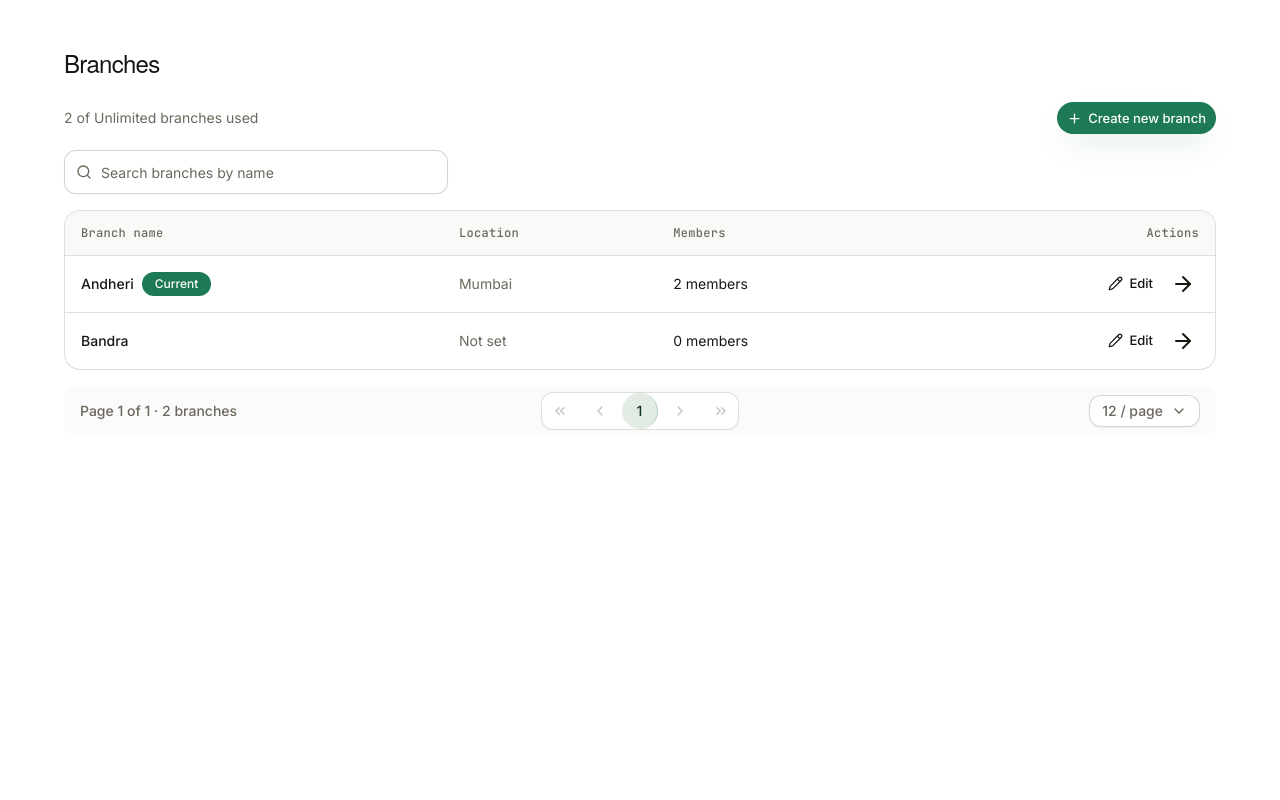
Test: DesignerBranches › creates a branch from the top-right dialog
Click the button "Create new branch" at (1137, 118), box [1057,102,1216,134]
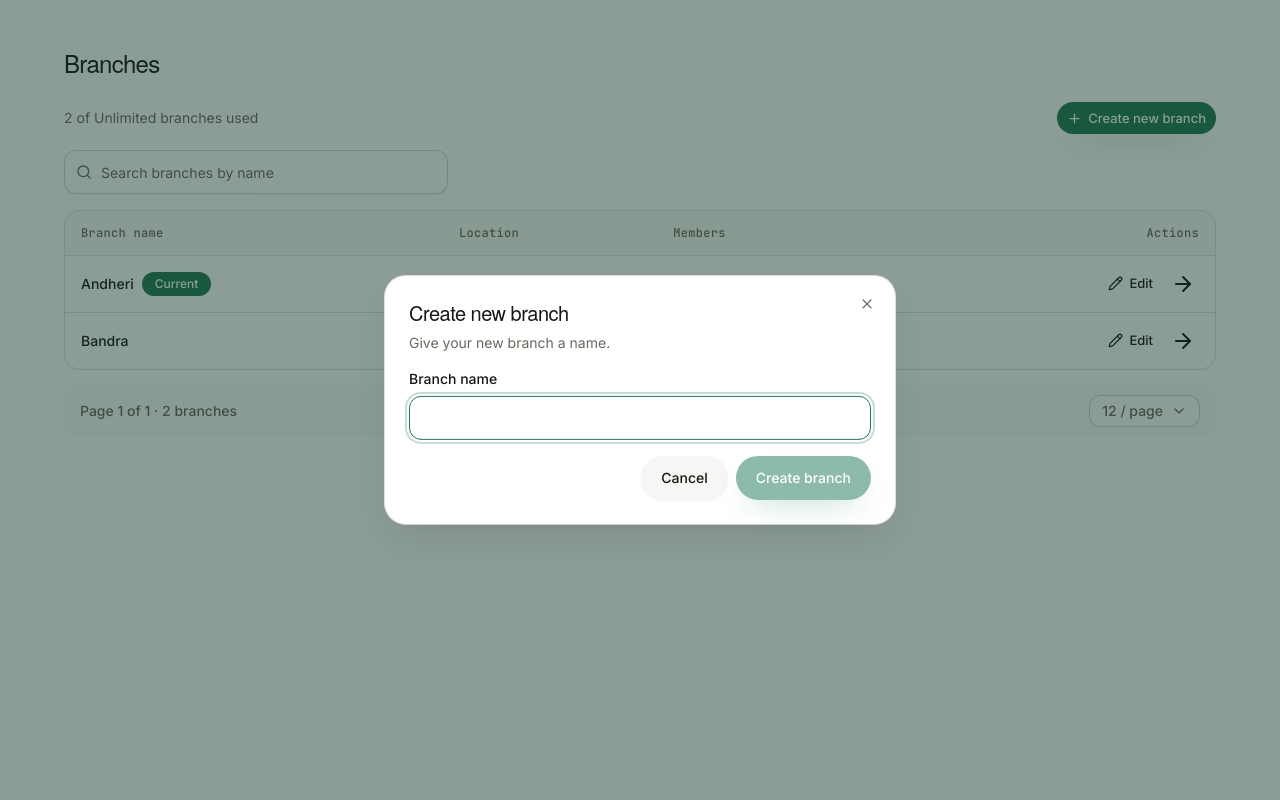
Type "Juhu" into the field labelled "Branch name" at (640, 418), box [409,396,871,440]
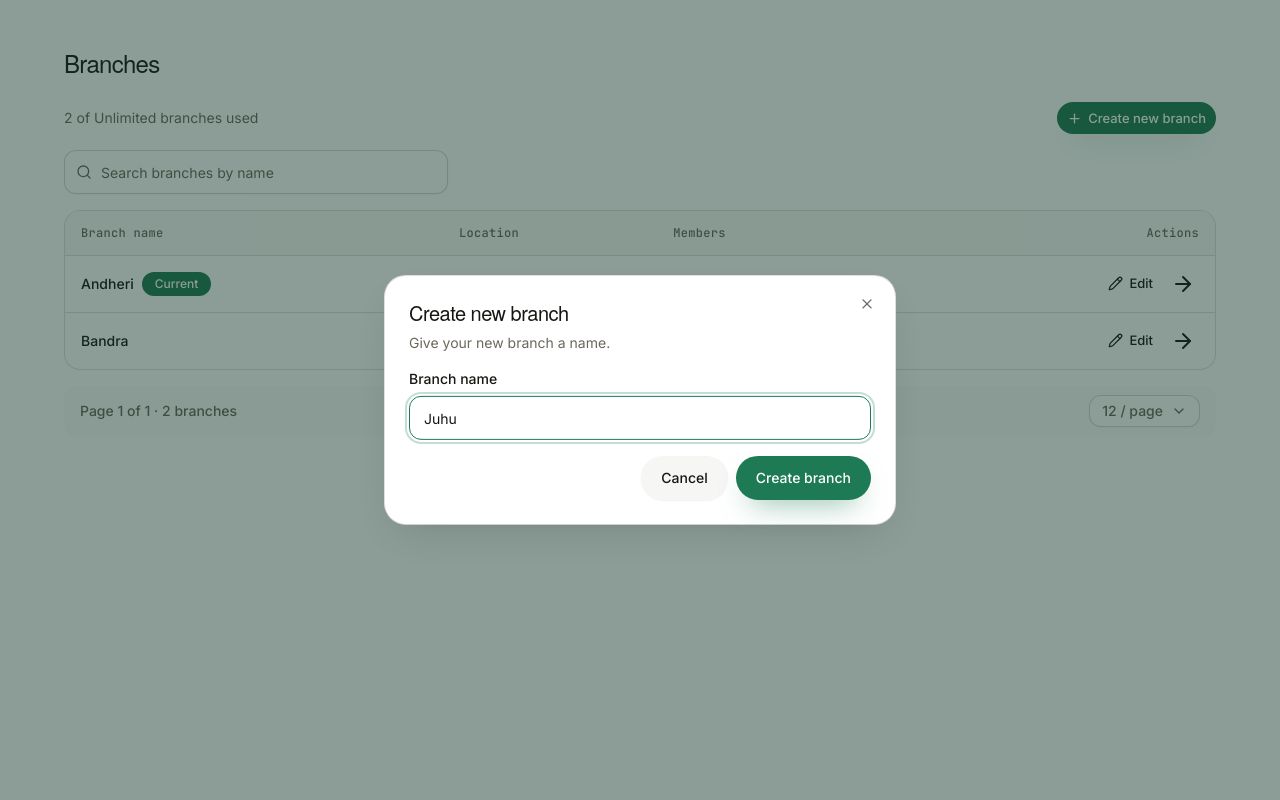
Click the button "Create branch" at (803, 478), box [736,456,871,500]
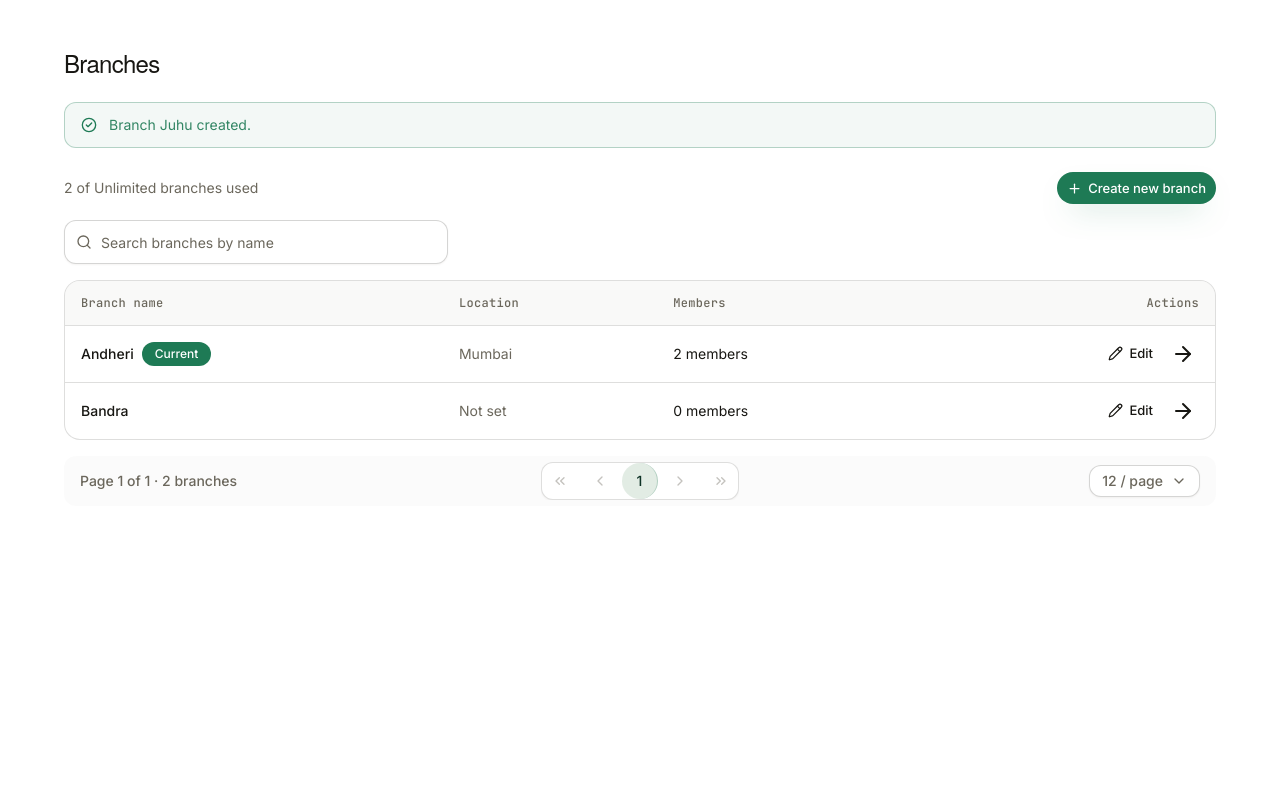
Expected: the message reads "Branch Juhu created.", [109,116,251,133]
Expected: the dialog is gone
